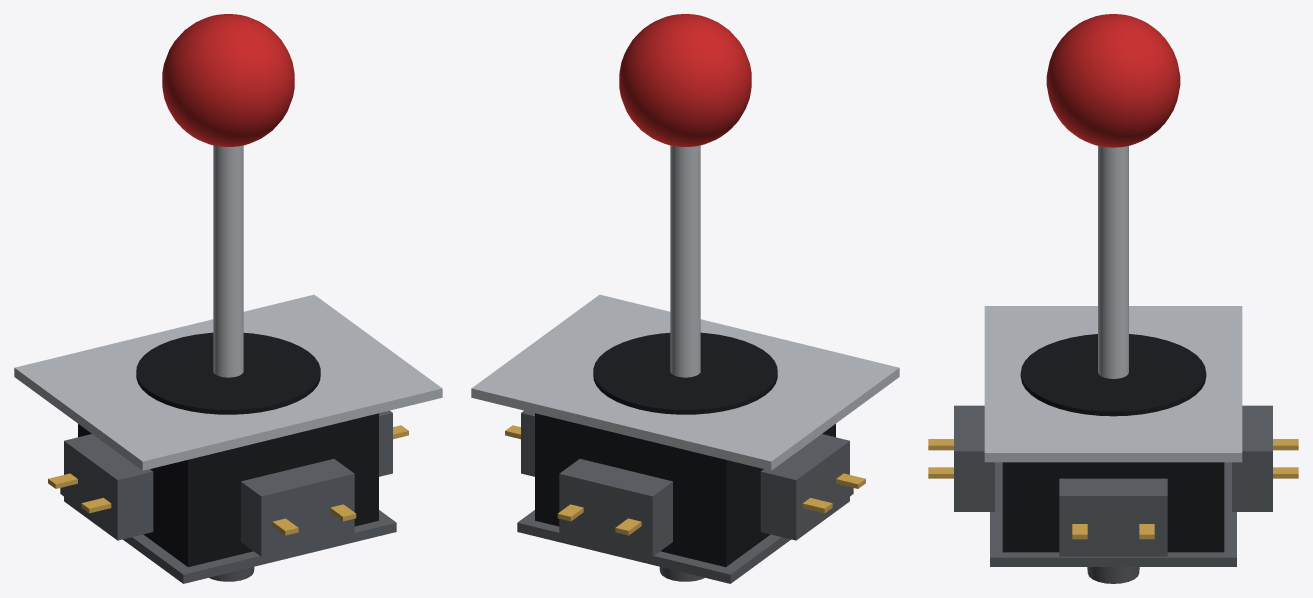
Rendered from cabinet-control.glb.
3 renders of one model, left to right at view 1: azimuth 30°, elevation 25°; view 2: azimuth 150°, elevation 25°; view 3: azimuth 270°, elevation 25°, orthographic.
Visible parts, largest first — view 1: part0, part4, part3, part1, part10, part2, part13, part5, part7; view 2: part0, part4, part3, part1, part16, part2, part13, part5, part7; view 3: part0, part3, part4, part1, part7, part2, part5, part10, part16, part6.
Part boxes in pixels (x1,y1,x2,y2): part0: (14,294,442,470); part4: (78,413,378,567); part3: (162,14,294,146); part1: (136,332,320,414); part10: (241,459,354,556); part2: (213,145,243,377); part13: (64,434,153,540); part5: (60,487,396,583); part7: (379,410,392,476); part0: (471,294,899,470); part4: (535,413,835,567); part3: (619,14,751,146); part1: (593,332,777,414); part16: (559,459,672,556); part2: (670,145,700,377); part13: (760,434,849,540); part5: (517,487,853,583); part7: (521,410,534,476); part0: (984,306,1242,462); part3: (1046,14,1180,147); part4: (1002,462,1224,552); part1: (1020,334,1206,416); part7: (1059,478,1167,556); part2: (1098,146,1128,378); part5: (990,462,1236,566); part10: (954,405,994,511); part16: (1232,405,1272,511); part6: (1087,567,1139,583).
Size of the model in its own units: 1.44 by 2.37 by 1.44.
